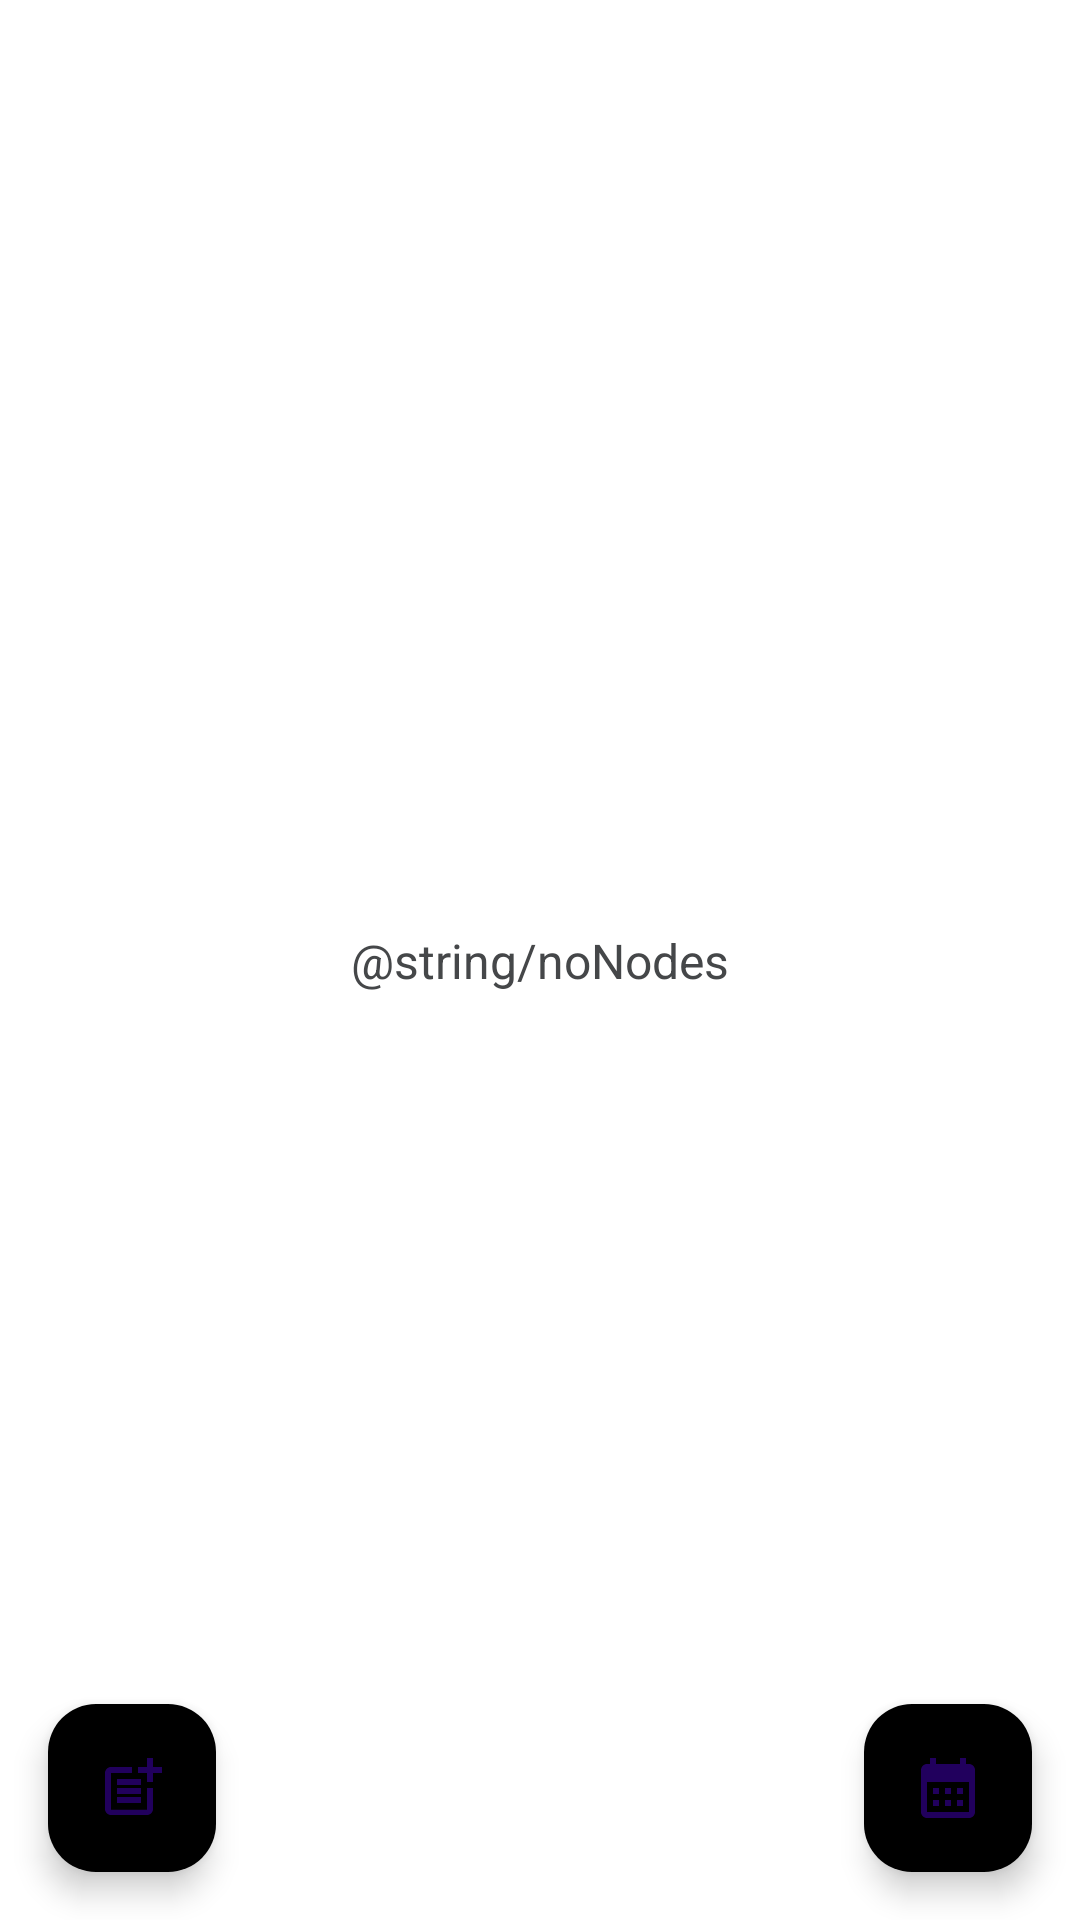

Where to tap for icons on this 1080*1920 app screen, as [x,y]:
add note: [132,1788]
open calendar: [948,1788]
